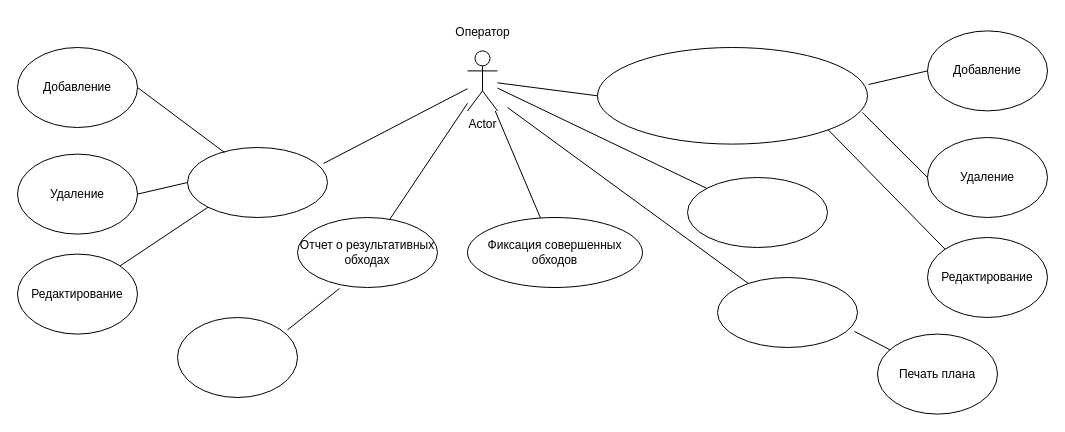
Image size: 1065x432. Some labels were removed from this diagram. The centre of each missing label's shape, as x and y in pixels:
"Ведение учета домов жилого сектора" belongs at pixel 732 95.
"Ведение учета сотрудников" belongs at pixel 257 182.
"Печать отчета" belongs at pixel 237 357.
"Составление графика обходов" belongs at pixel 757 212.
"Формирование плана обхода" belongs at pixel 787 312.
